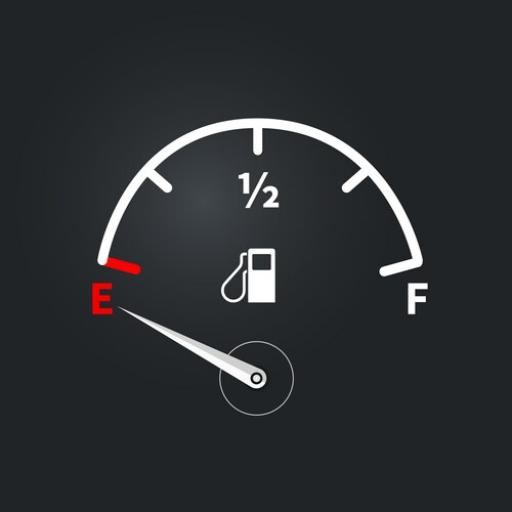empty: (92, 281, 113, 317)
fuel_icon: (222, 245, 279, 309)
full: (404, 281, 428, 317)
guage_area: (88, 117, 432, 427)
needle_center: (212, 339, 298, 418)
needle_tip: (116, 304, 156, 328)
